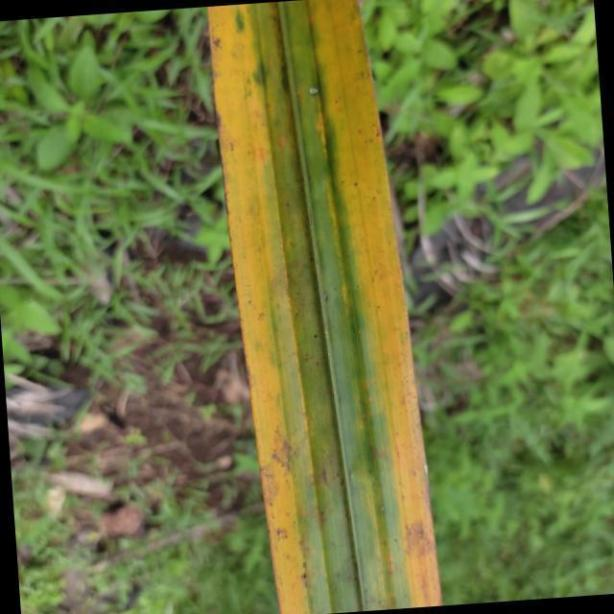Megnesium: (206, 4, 446, 612)
